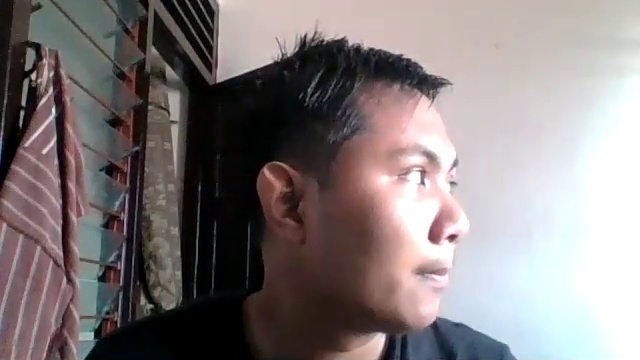Distracted: (244, 67, 477, 330)
